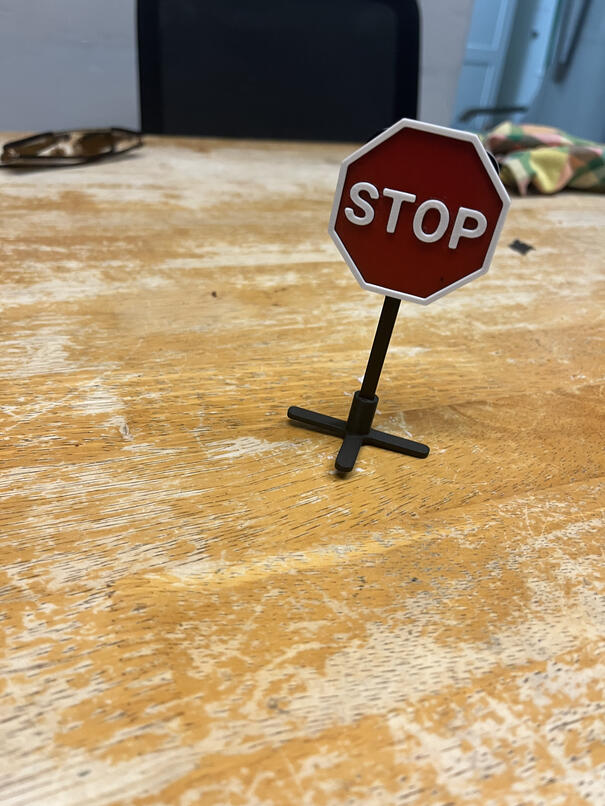sign_stop: (322, 118, 504, 303)
